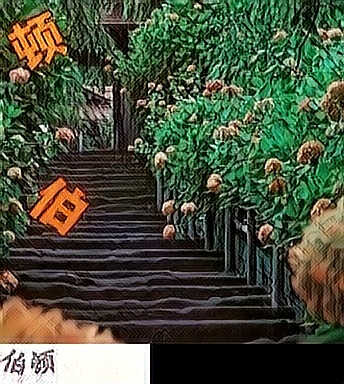B2AE: (26, 174, 91, 238)
B6D9: (7, 8, 72, 72)
